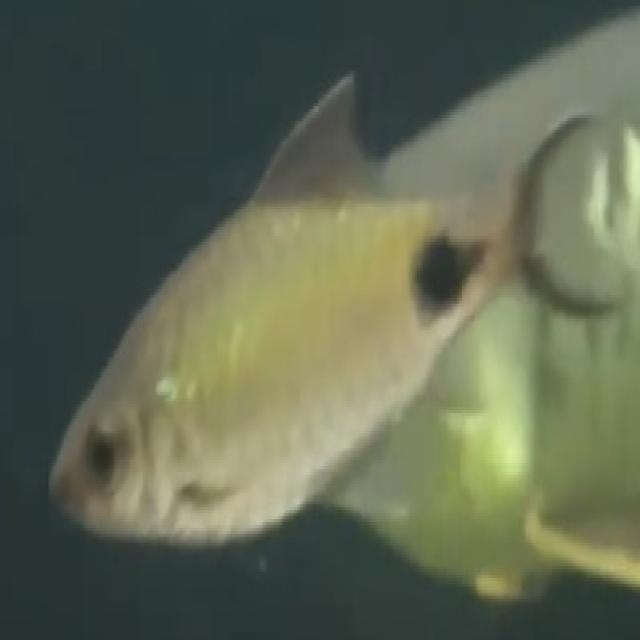Black-Spotted-Barb: (37, 57, 605, 539)
